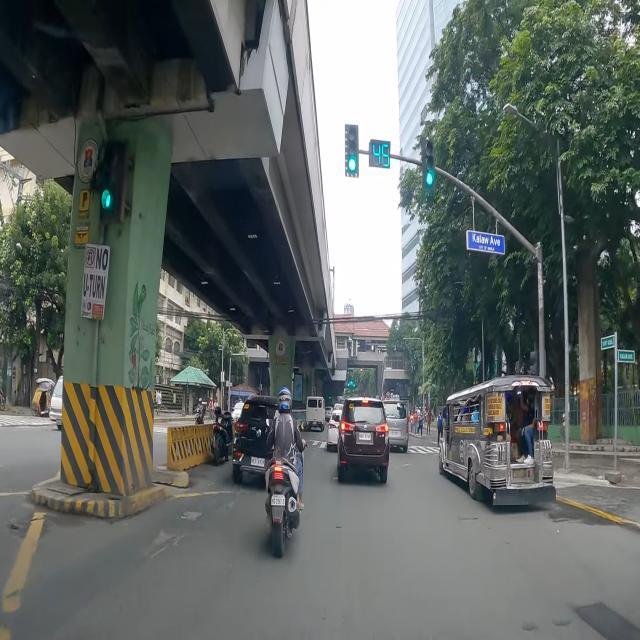bike: (0, 387, 6, 411), (208, 398, 214, 420)
car: (337, 398, 390, 483), (232, 395, 277, 483), (383, 400, 409, 452), (327, 410, 342, 450)
jeepney: (438, 376, 556, 506)
motorcycle: (265, 388, 306, 557), (211, 406, 233, 464), (195, 398, 208, 424)
tricycle: (31, 378, 55, 416)
truck: (304, 396, 326, 432)
